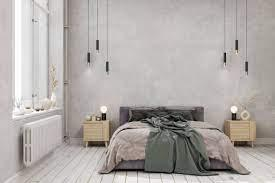bed: (115, 103, 234, 176)
light: (219, 2, 229, 66), (244, 2, 252, 79), (94, 0, 105, 53), (233, 0, 242, 57), (105, 0, 111, 76), (86, 0, 92, 67), (99, 103, 108, 120), (229, 104, 238, 120)
table: (225, 118, 256, 147), (82, 116, 110, 148)
